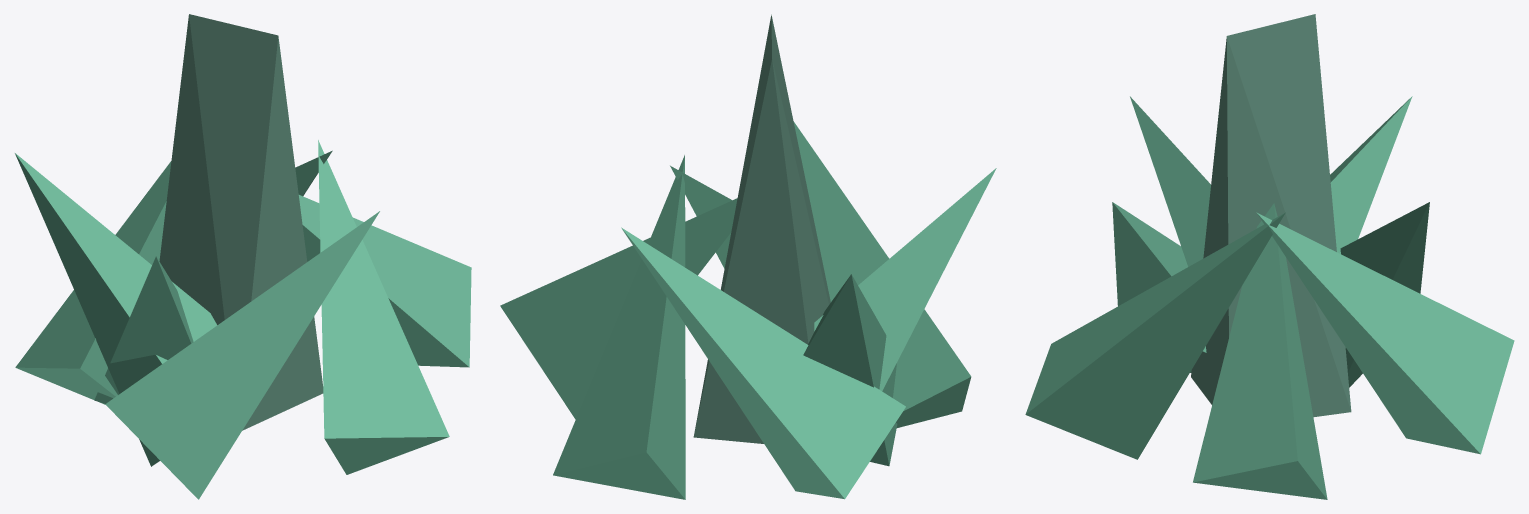
Rendered from Plant_02_LOD2.fbx.
3 views of the same model, side by side, from view 1: azimuth 30°, elevation 25°; view 2: azimuth 150°, elevation 25°; view 3: azimuth 270°, elevation 25° (orthographic). The views are drawn at different scales.
Parts seen in each view (by area): view 1: Plant_02_LOD2; view 2: Plant_02_LOD2; view 3: Plant_02_LOD2.
Boxes of the visible parts, x1,y1,x2,y2 form: Plant_02_LOD2: (15,14,471,499); Plant_02_LOD2: (500,14,996,499); Plant_02_LOD2: (1025,14,1514,499).
Size of the model in its own units: 187 by 179 by 192.
